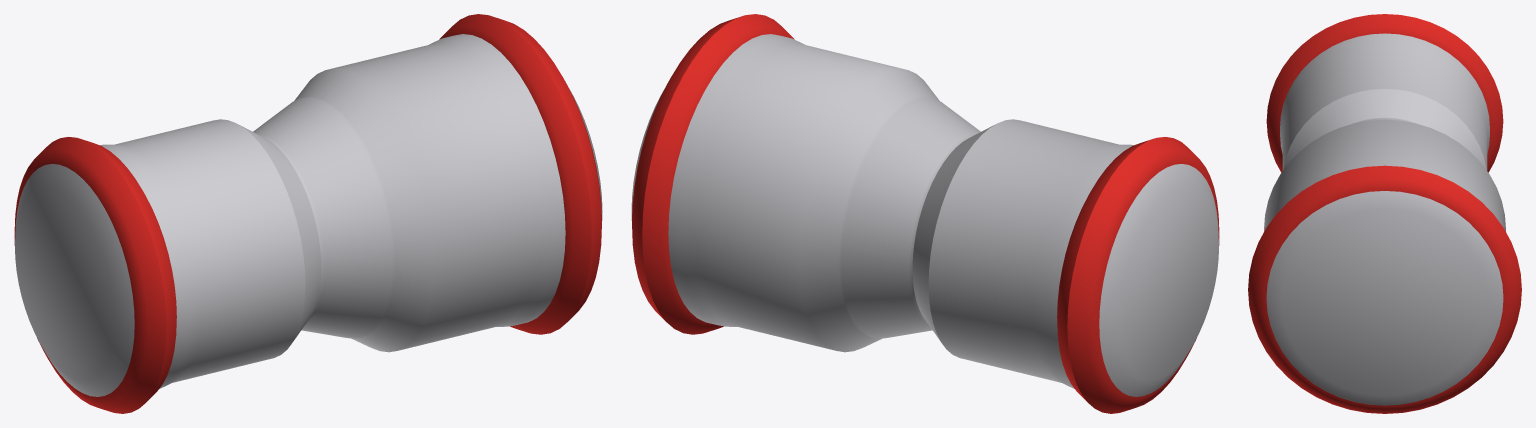
File: fitting_cp_28x22_r.glb
3 renders of one model, left to right at view 1: azimuth 30°, elevation 25°; view 2: azimuth 150°, elevation 25°; view 3: azimuth 270°, elevation 25°, orthographic. The views are drawn at different scales.
Visible parts, largest first — view 1: муфта, кольцо пресс, кольцо пресс.001; view 2: муфта, кольцо пресс, кольцо пресс.001; view 3: муфта, кольцо пресс.001, кольцо пресс.
Boxes of the visible parts, box(x1,y1,x2,y2) form: муфта: box(15, 34, 602, 396); кольцо пресс: box(14, 137, 176, 413); кольцо пресс.001: box(439, 14, 601, 334); муфта: box(631, 34, 1218, 396); кольцо пресс: box(1057, 137, 1219, 413); кольцо пресс.001: box(632, 14, 794, 334); муфта: box(1264, 33, 1505, 405); кольцо пресс.001: box(1248, 165, 1521, 413); кольцо пресс: box(1266, 14, 1503, 172).
Bounding box in the file's own units: 0.069 × 0.0412 × 0.0412.
